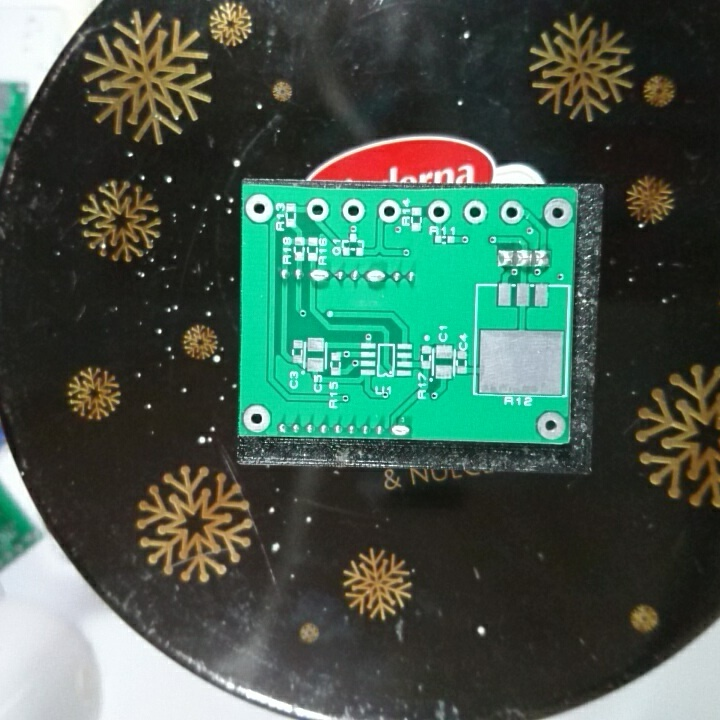F: (534, 409, 568, 442), (241, 403, 274, 435), (541, 196, 573, 227), (244, 192, 275, 223), (497, 199, 526, 226), (302, 196, 331, 223), (340, 198, 367, 226), (426, 199, 452, 226), (462, 200, 487, 227), (377, 198, 402, 223)
P: (362, 266, 386, 286), (388, 421, 413, 439), (308, 266, 331, 283)
